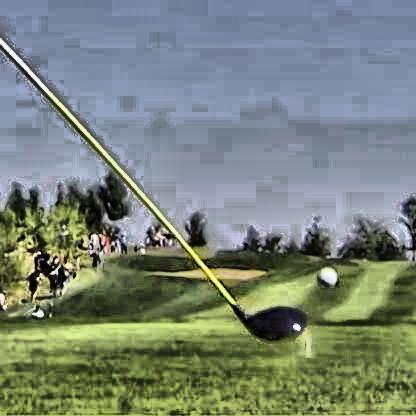golfball: (314, 263, 335, 285)
